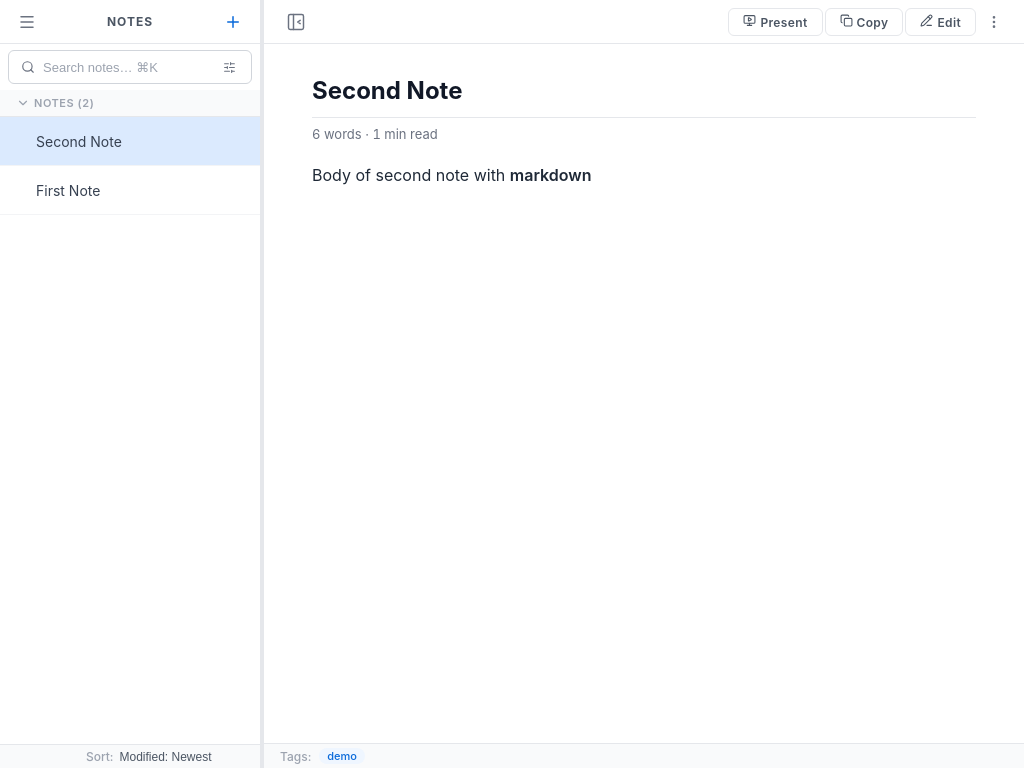
it: App integration tests › new note button creates editor
The image size is (1036, 768).
Click the button named "Create new note". click: [233, 22]
box: [218,6,248,36]
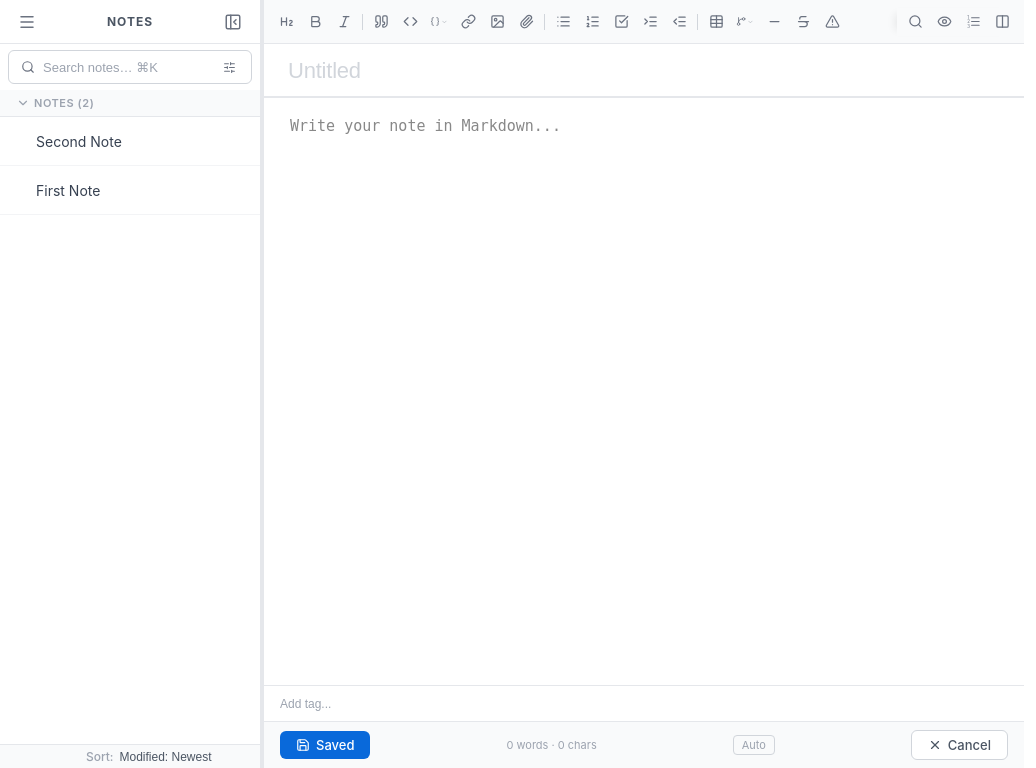
Expected: the field with placeholder "Untitled" is shown, [264,44,1024,98]
